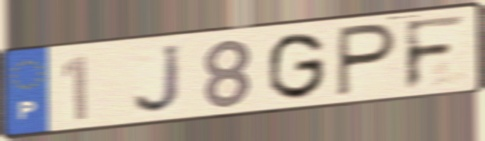1: (60, 52, 89, 123)
8: (201, 37, 254, 110)
F: (402, 12, 470, 93)
G: (265, 30, 328, 103)
J: (131, 41, 185, 116)
P: (333, 20, 400, 99)
